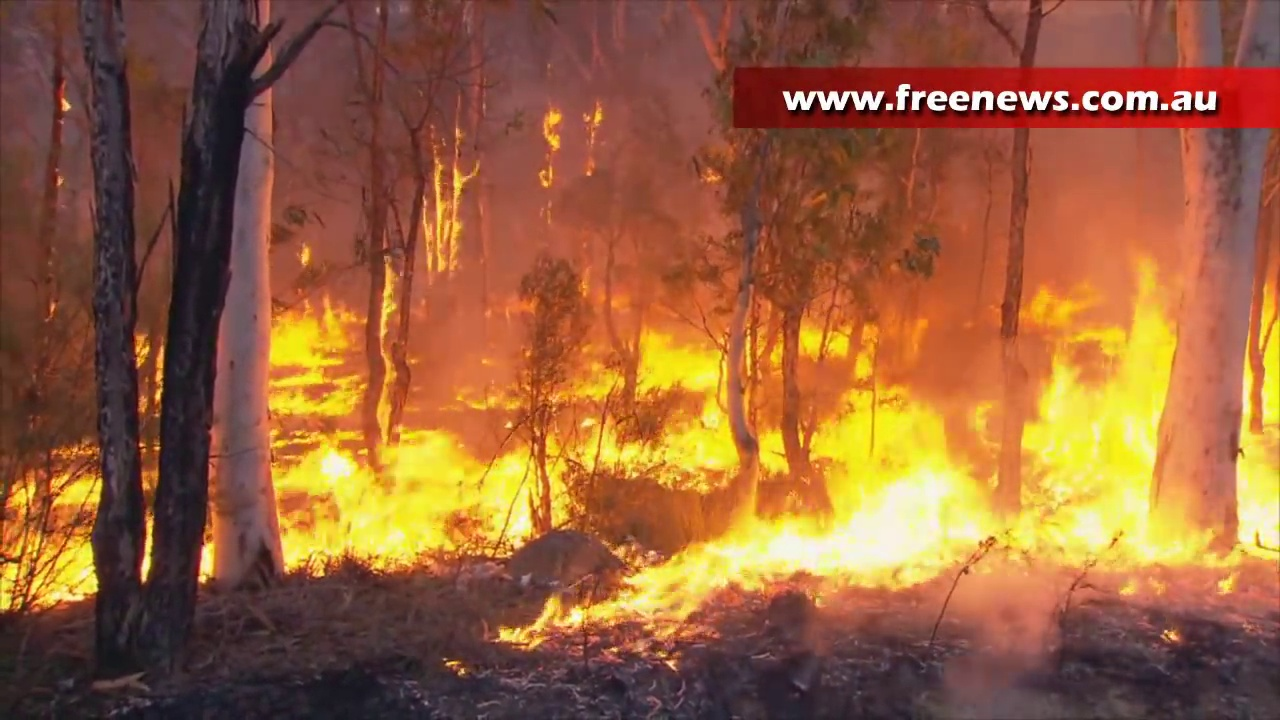fire: (501, 324, 997, 650), (1016, 274, 1177, 563), (279, 434, 564, 570), (1, 470, 95, 604), (272, 307, 365, 431), (1240, 295, 1280, 558), (432, 163, 460, 263), (540, 105, 561, 149), (584, 98, 603, 134)
